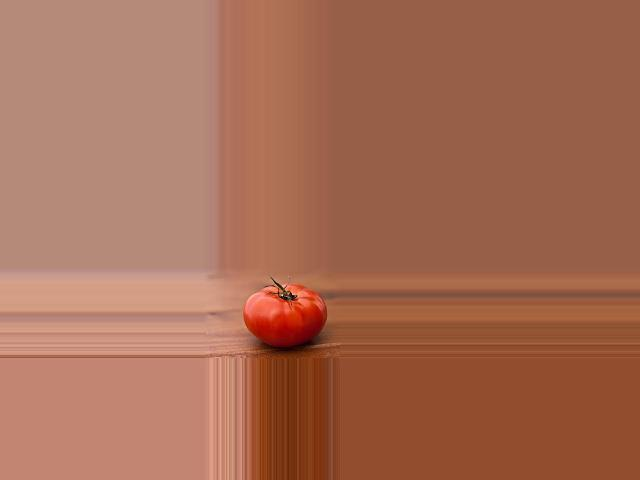tomato: (242, 284, 326, 347)
